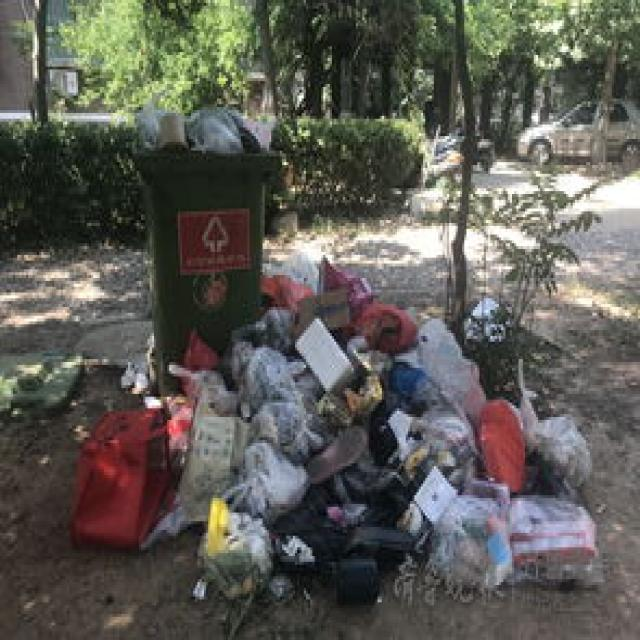garbage: (65, 252, 603, 605)
overflow: (130, 98, 278, 391)
